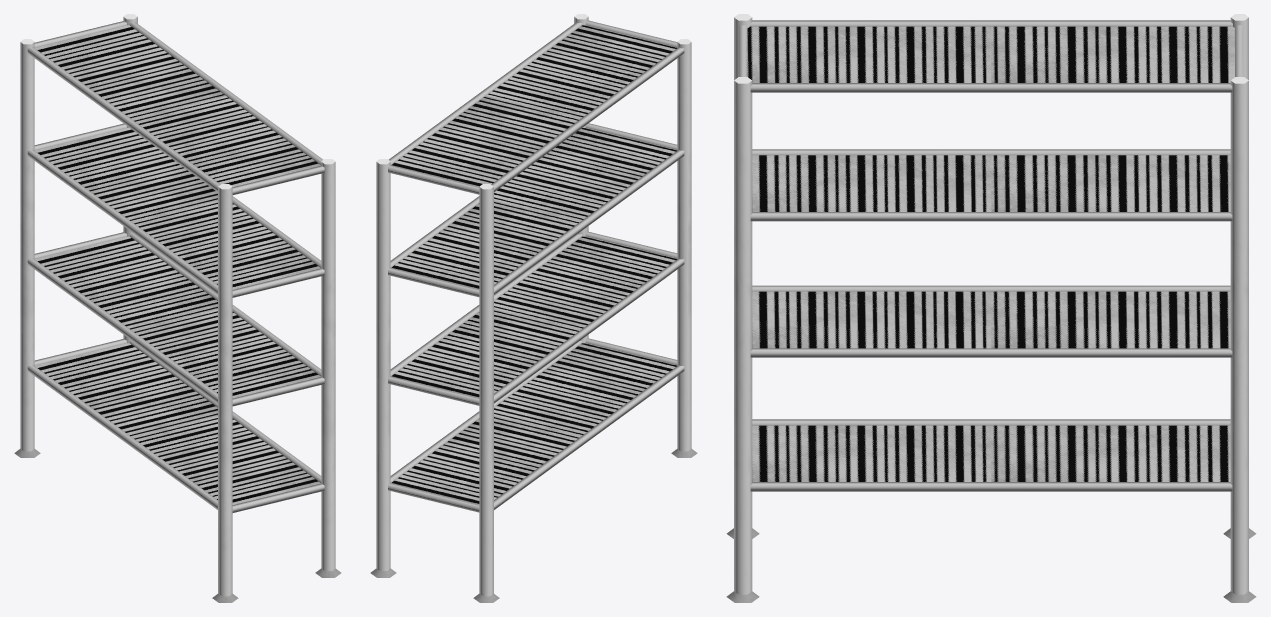
File: Kitchen Rack.fbx
The picture shows the model from 3 angles, left to right: view 1: azimuth 30°, elevation 25°; view 2: azimuth 150°, elevation 25°; view 3: azimuth 270°, elevation 25°; orthographic projection. The views are drawn at different scales.
Parts seen in each view (by area): view 1: Cube.018; view 2: Cube.018; view 3: Cube.018.
Part boxes in pixels (x1,y1,x2,y2): Cube.018: [14, 14, 341, 602]; Cube.018: [370, 14, 697, 602]; Cube.018: [726, 14, 1256, 602].
Size of the model in its own units: 52.53 by 168 by 156.
